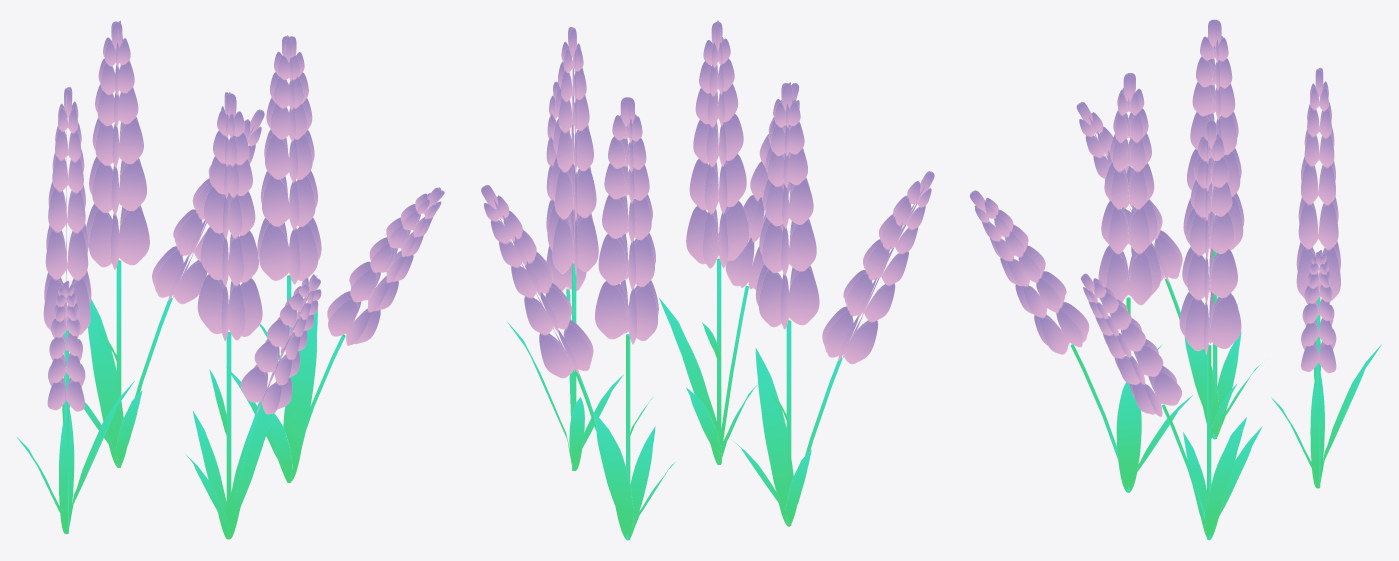
Rendered from Flowers_n03_10.fbx.
3 renders of one model, left to right at view 1: azimuth 30°, elevation 25°; view 2: azimuth 150°, elevation 25°; view 3: azimuth 270°, elevation 25°, orthographic. The views are drawn at different scales.
Parts seen in each view (by area): view 1: polySurface517; view 2: polySurface517; view 3: polySurface517.
Boxes of the visible parts, x1,y1,x2,y2 form: polySurface517: [17, 20, 444, 539]; polySurface517: [481, 20, 934, 540]; polySurface517: [969, 19, 1381, 540].
Bounding box in the file's own units: 79.5 × 89.97 × 79.21.
Materials: 1 (1 with a texture image).
